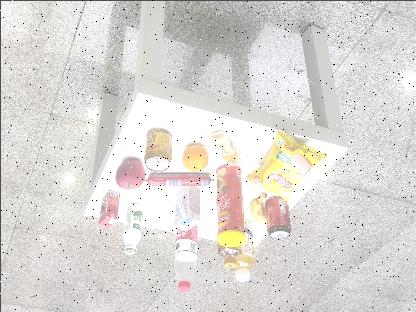Can: (143, 126, 171, 172), (264, 194, 290, 239)
Others: (210, 164, 248, 246), (169, 184, 201, 231), (96, 188, 120, 230)
Plastic Bottle: (168, 232, 198, 290), (120, 201, 143, 254)
